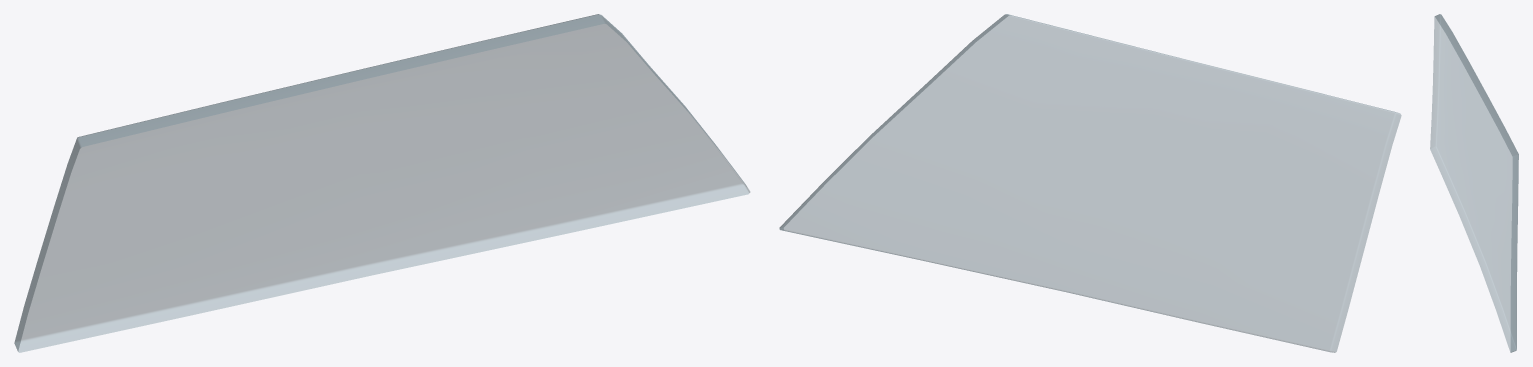
3 views of the same model, side by side, from view 1: azimuth 30°, elevation 25°; view 2: azimuth 150°, elevation 25°; view 3: azimuth 270°, elevation 25° (orthographic). The views are drawn at different scales.
Parts seen in each view (by area): view 1: SM_MiniCooper_Door_FL_Glass_Ext1; view 2: SM_MiniCooper_Door_FL_Glass_Ext1; view 3: SM_MiniCooper_Door_FL_Glass_Ext1.
Part boxes in pixels (bbox=[...]): SM_MiniCooper_Door_FL_Glass_Ext1: bbox=[14, 14, 749, 352]; SM_MiniCooper_Door_FL_Glass_Ext1: bbox=[779, 14, 1401, 352]; SM_MiniCooper_Door_FL_Glass_Ext1: bbox=[1430, 14, 1518, 352].
Bounding box in the file's own units: 1.22 × 0.4503 × 0.2412.
